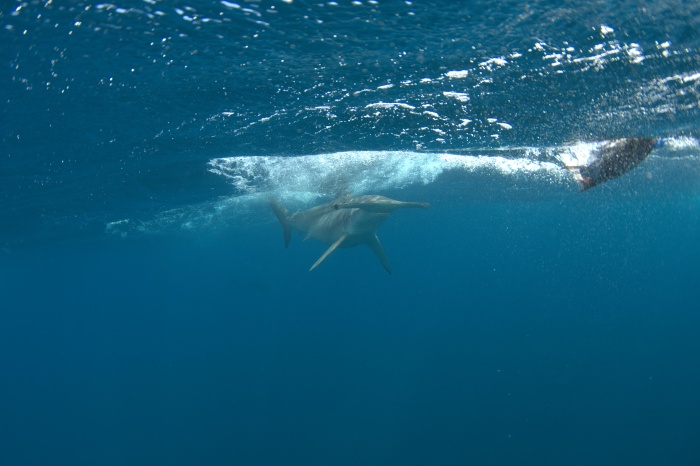Hammer: (233, 170, 459, 289)
